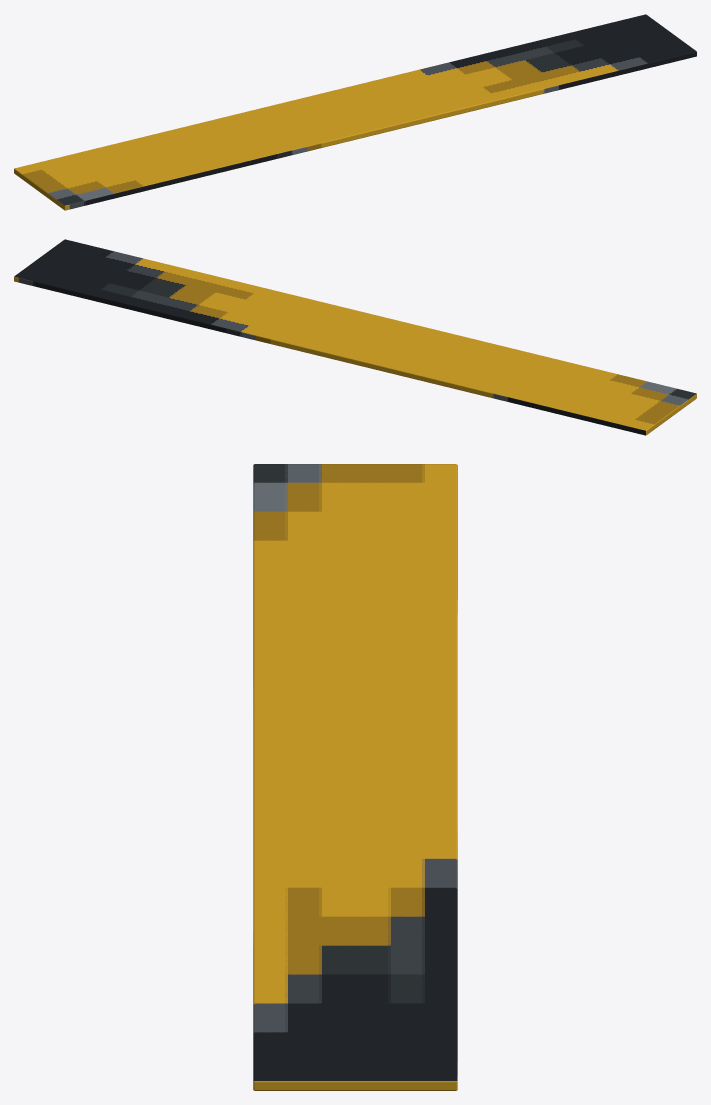
Rendered from base_build_tape.glb.
3 renders of one model, top to bottom at view 1: azimuth 30°, elevation 25°; view 2: azimuth 150°, elevation 25°; view 3: azimuth 270°, elevation 25°, orthographic. The views are drawn at different scales.
Visible parts, largest first — view 1: base_build_tape; view 2: base_build_tape; view 3: base_build_tape.
Boxes of the visible parts, x1=… form: base_build_tape: x1=14, y1=14, x2=696, y2=210; base_build_tape: x1=14, y1=239, x2=696, y2=435; base_build_tape: x1=253, y1=464, x2=457, y2=1090.
Size of the model in its own units: 1 by 0.008 by 0.14.
Materials: 1 (1 with a texture image).
